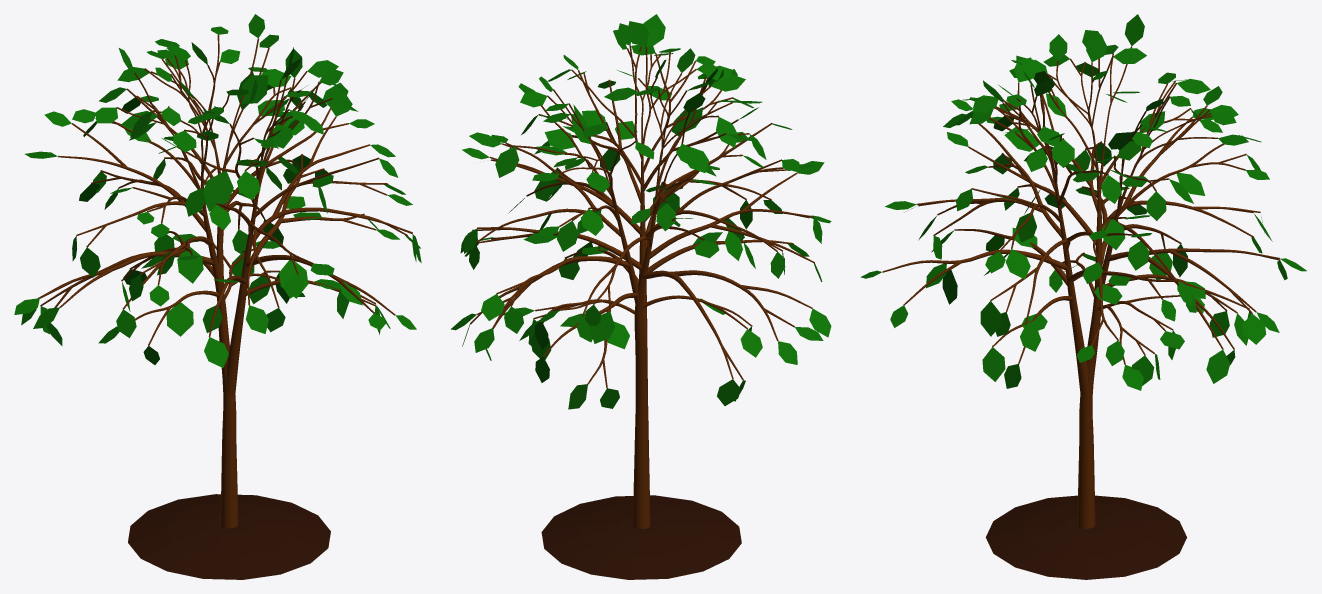
Rendered from Stage2.glb.
3 views of the same model, side by side, from view 1: azimuth 30°, elevation 25°; view 2: azimuth 150°, elevation 25°; view 3: azimuth 270°, elevation 25° (orthographic).
Visible parts, largest first — view 1: leaves.003, tree, Cone; view 2: leaves.003, tree, Cone; view 3: leaves.003, tree, Cone.
Boxes of the visible parts, bbox=[...] form: leaves.003: bbox=[14, 14, 421, 367]; tree: bbox=[38, 34, 412, 528]; Cone: bbox=[128, 494, 330, 579]; leaves.003: bbox=[451, 14, 831, 409]; tree: bbox=[470, 45, 814, 528]; Cone: bbox=[541, 495, 741, 579]; leaves.003: bbox=[861, 14, 1306, 390]; tree: bbox=[882, 46, 1280, 528]; Cone: bbox=[985, 495, 1186, 579].
Bounding box in the file's own units: 1.06 × 1.39 × 1.14.
